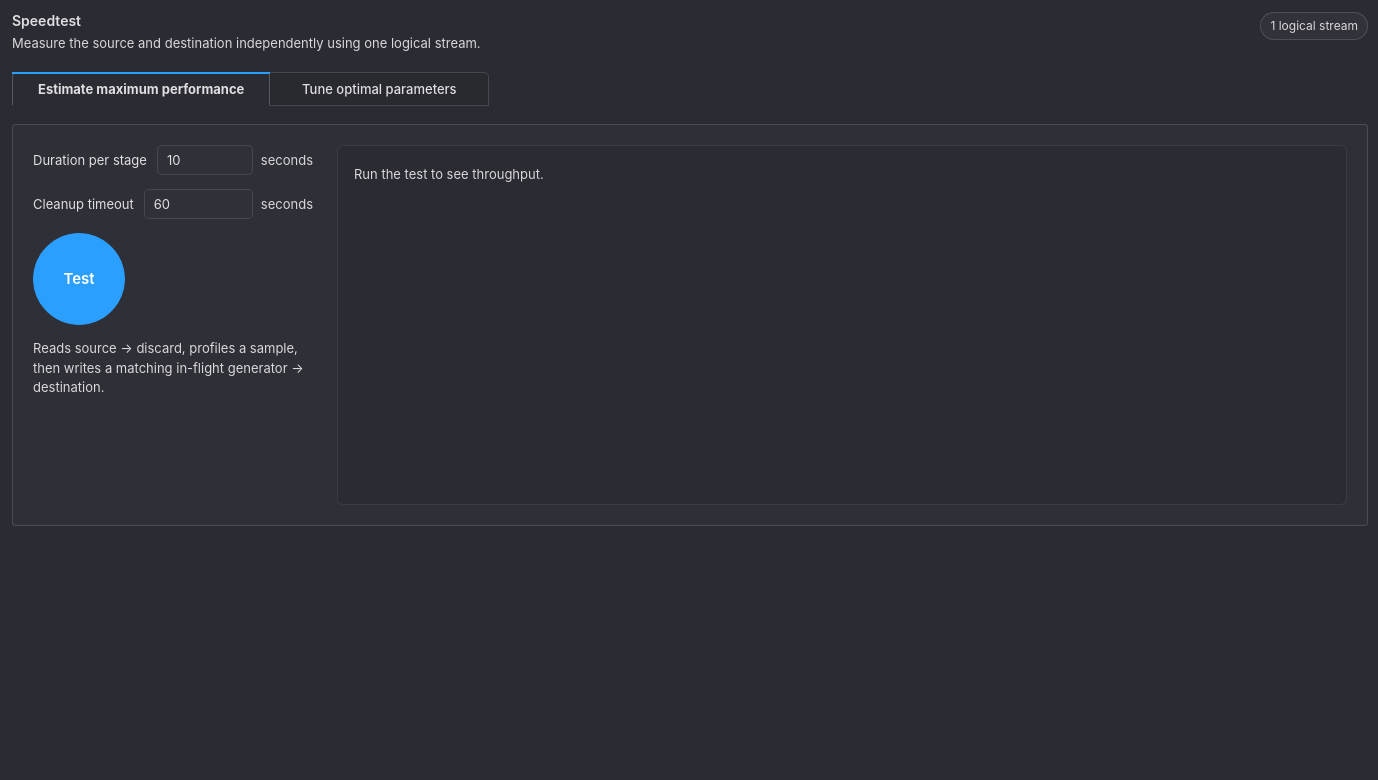
Scenario: SpeedtestWorkspace › rejects an invalid cleanup timeout before starting server work
The width and height of the screenshot is (1378, 780).
Replace the text in the field named "Cleanup timeout in seconds" with "0" at {"x": 198, "y": 204}, box [144,189,253,219]
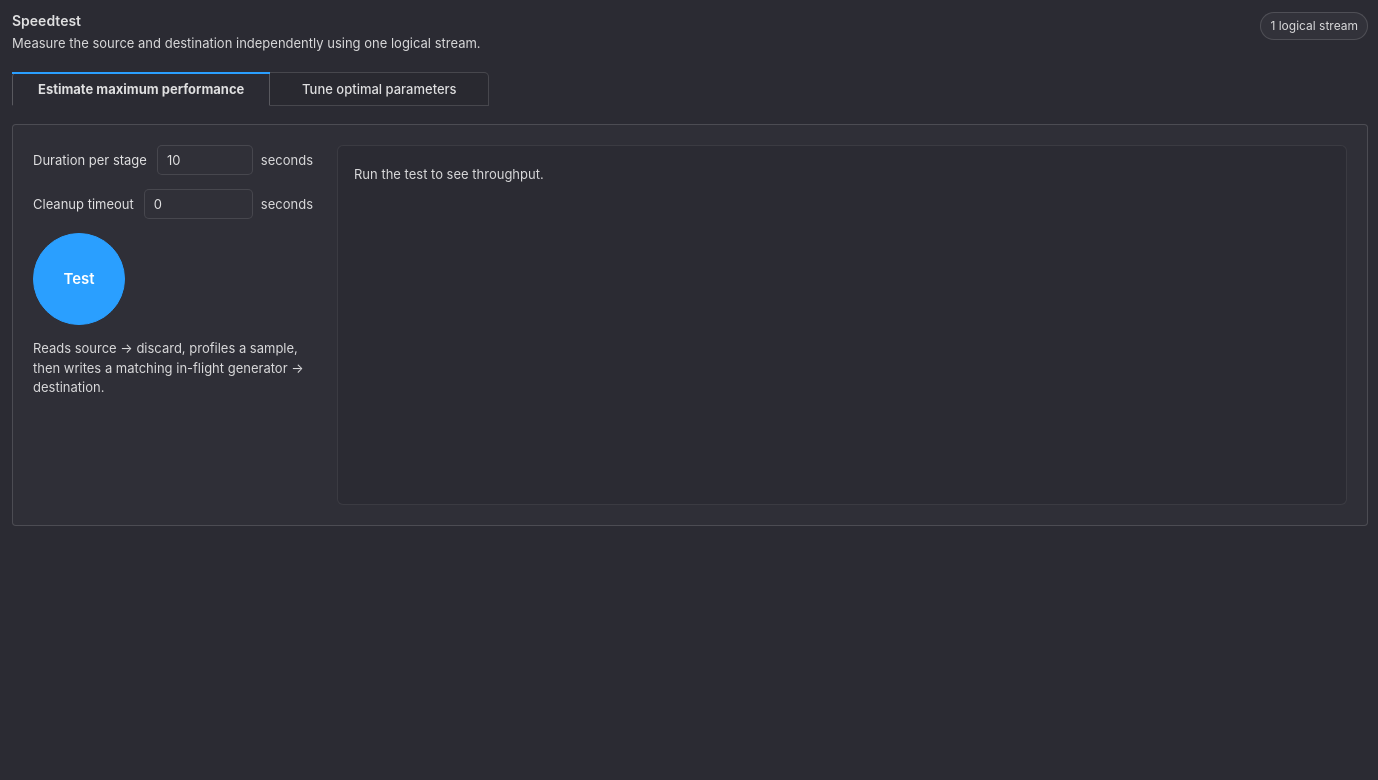
Click the button "Test" at {"x": 79, "y": 279}, box [33,233,125,325]
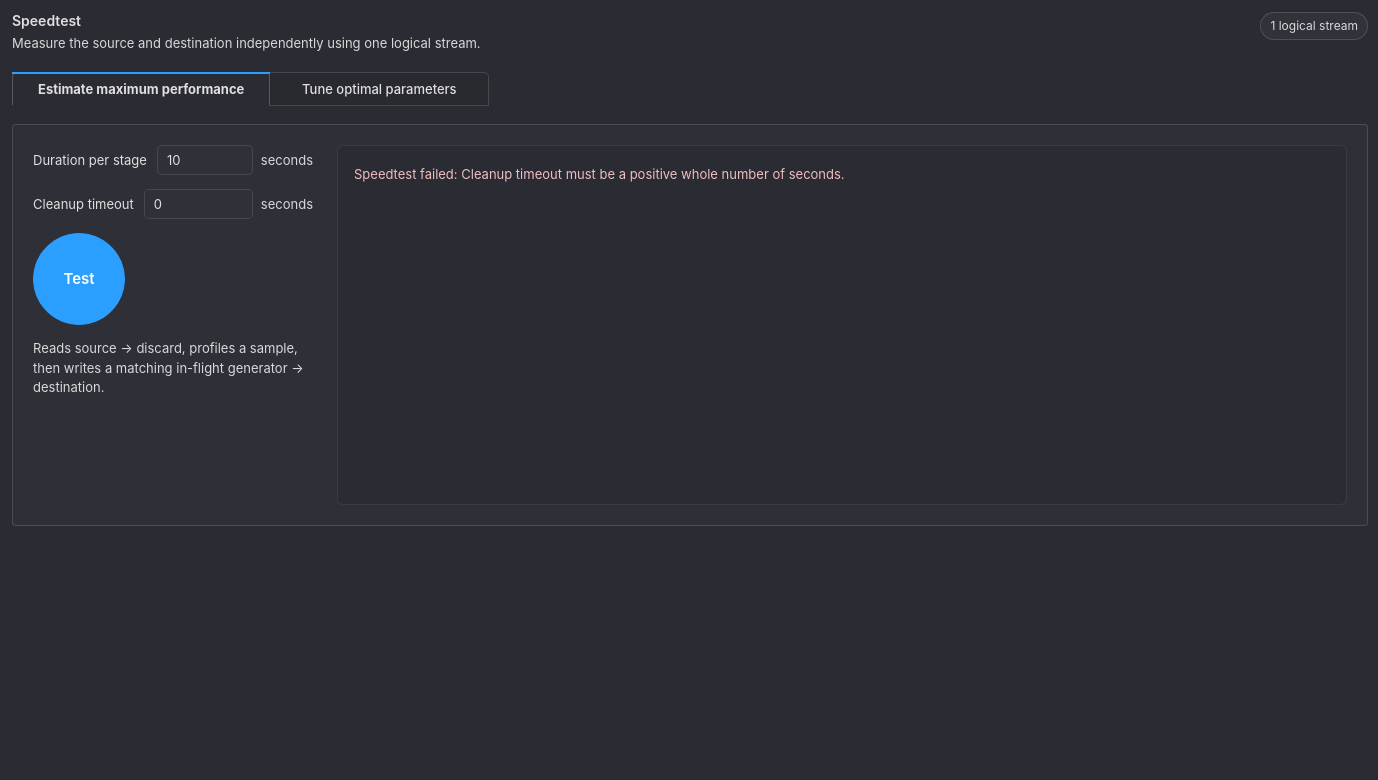
Check: the message shows "Cleanup timeout must be a positive whole number of seconds.", box [461,166,845,182]
Click the tab "Tune optimal parameters" at {"x": 379, "y": 89}, box [269,72,489,106]
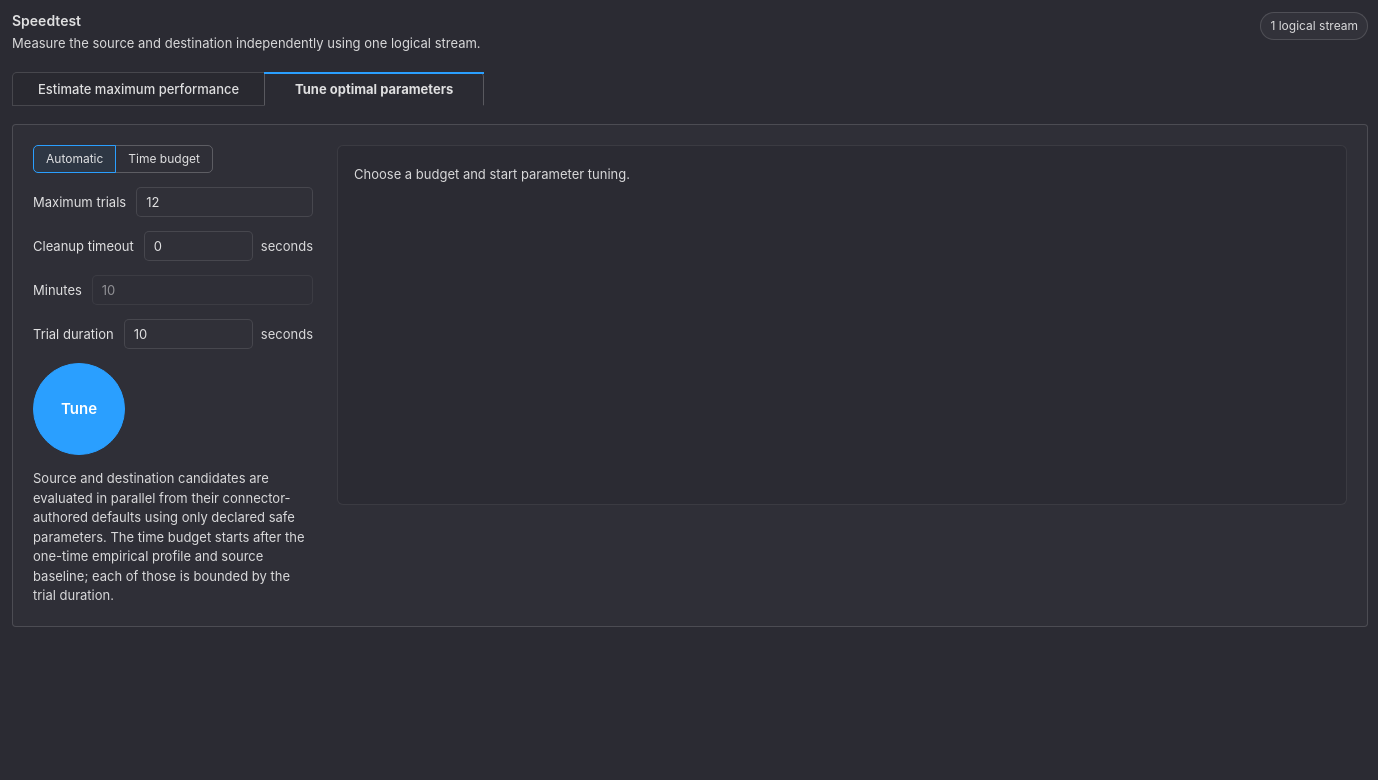
Click the button "Tune" at {"x": 79, "y": 409}, box [33,363,125,455]
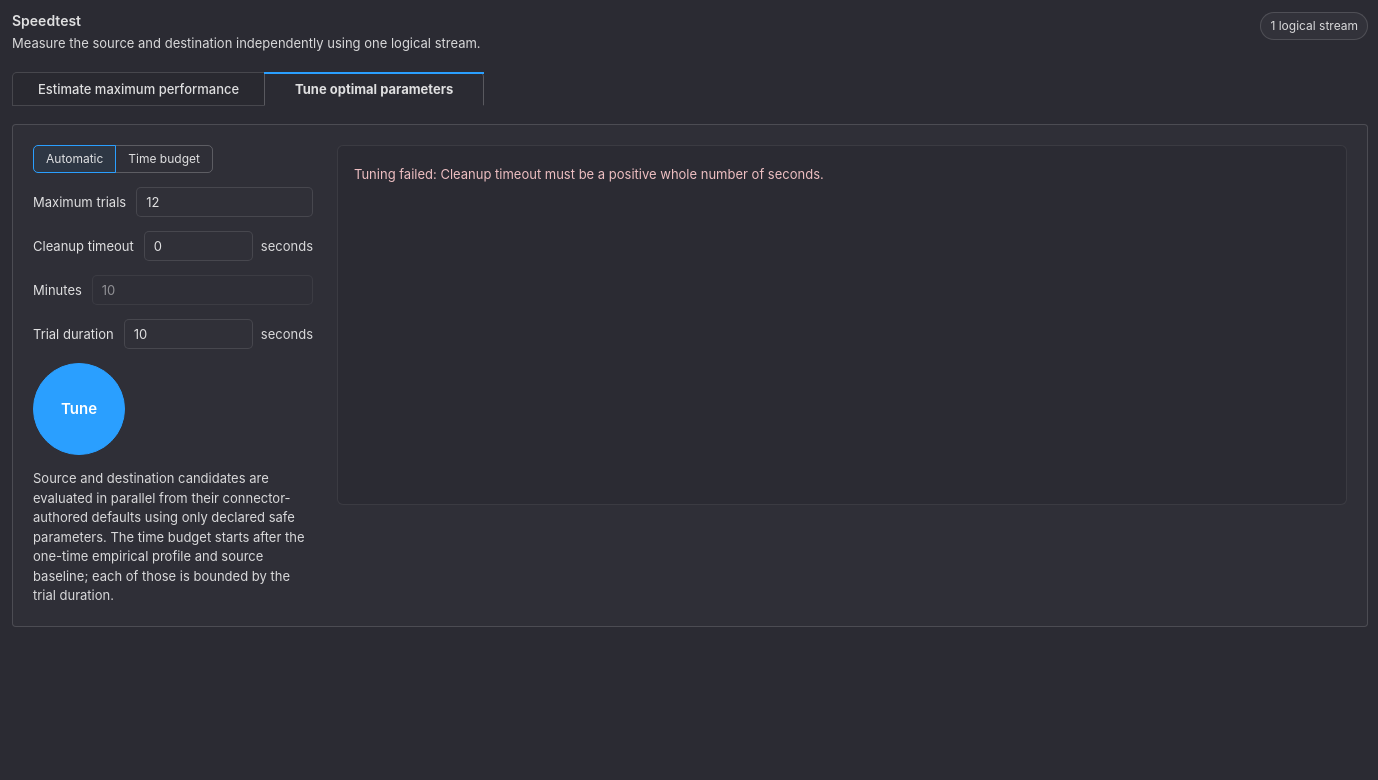
Check: the message shows "Cleanup timeout must be a positive whole number of seconds.", box [440,166,824,182]
